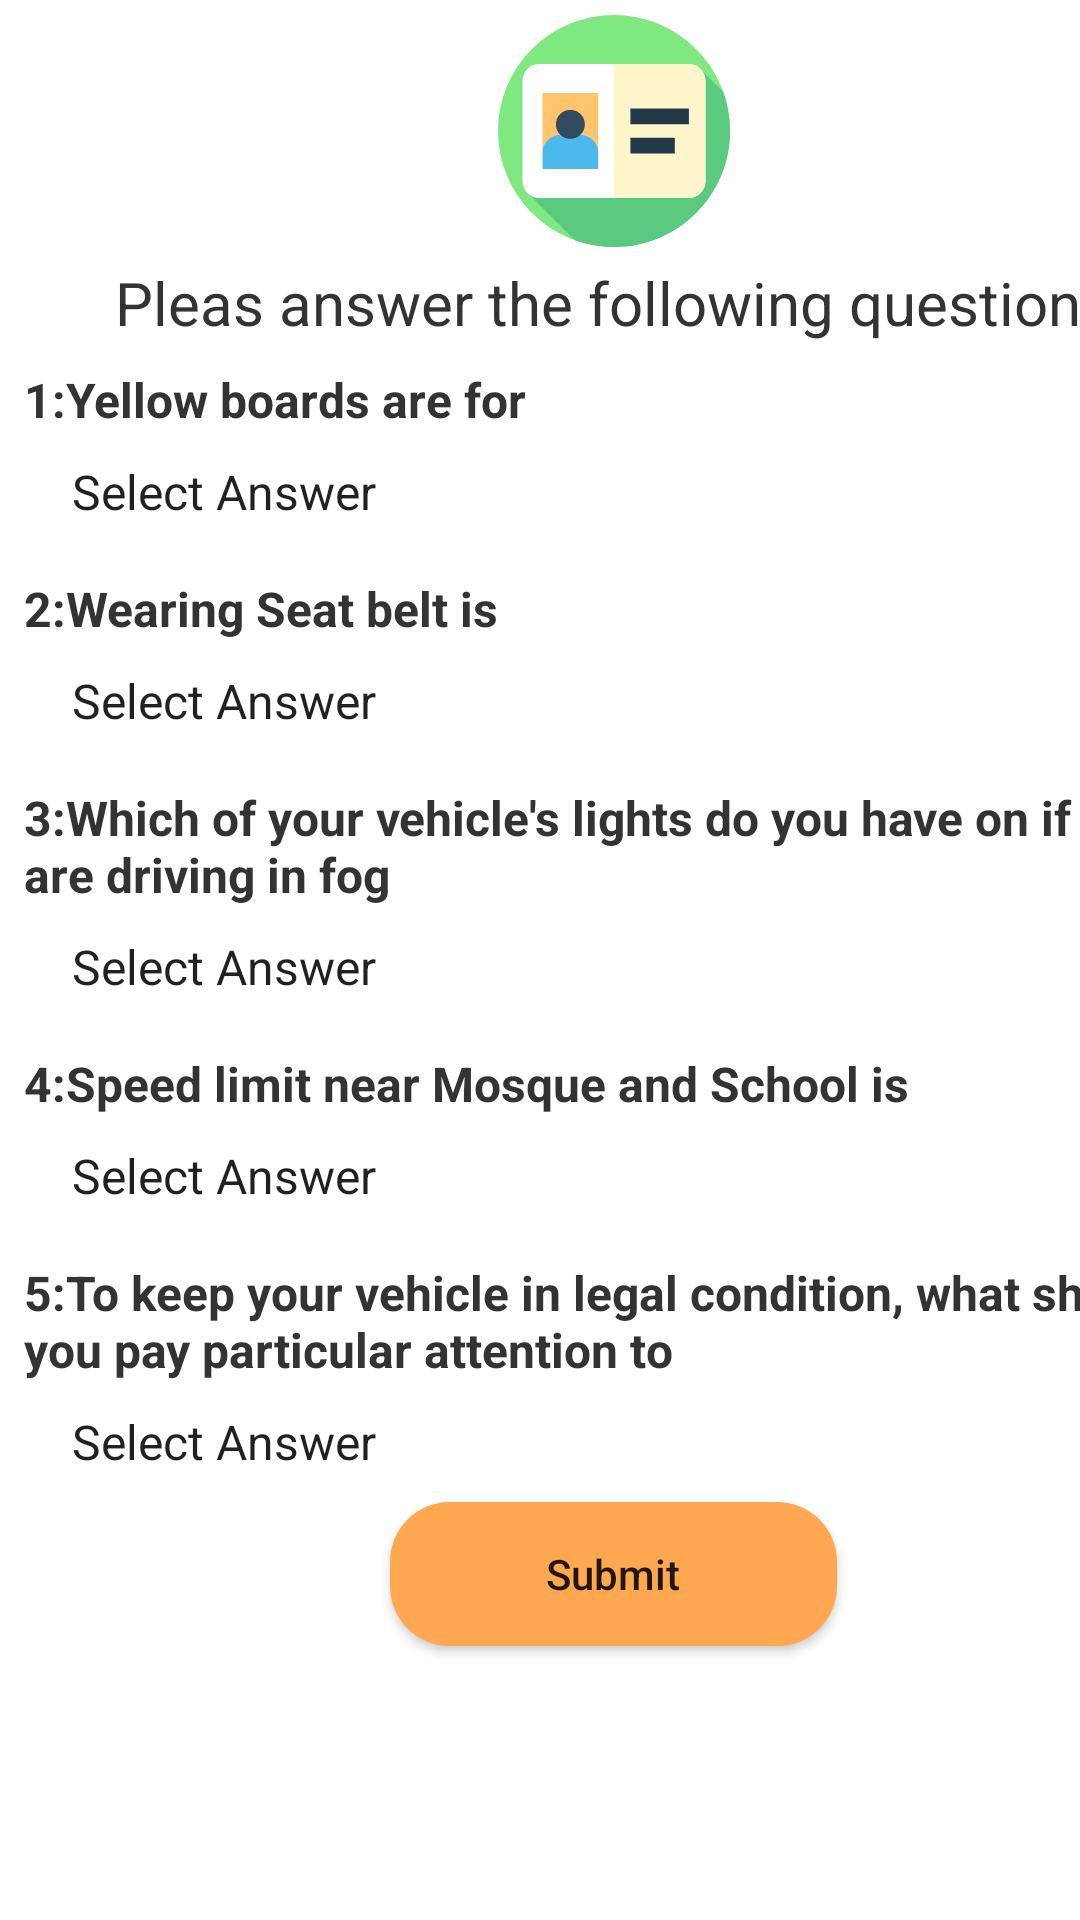

Icons on this 1080x1920 Android screen, each with the point to tap as (x=x, y=y):
driver license: (x=614, y=131)
